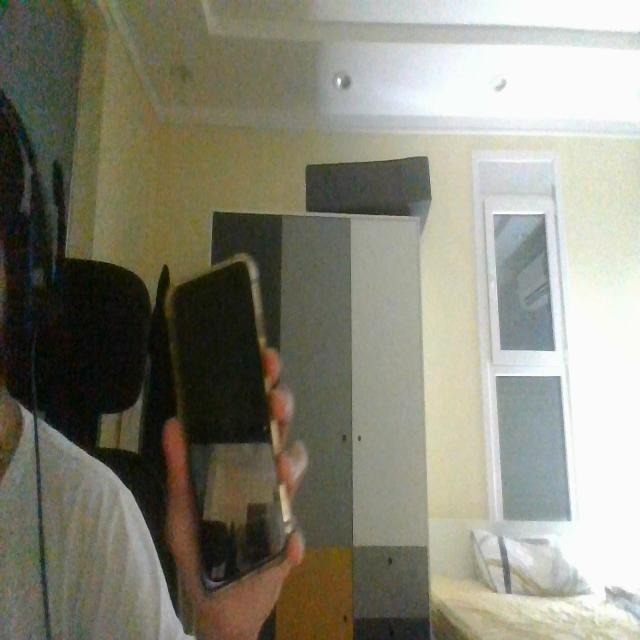Phone: (163, 252, 294, 597)
